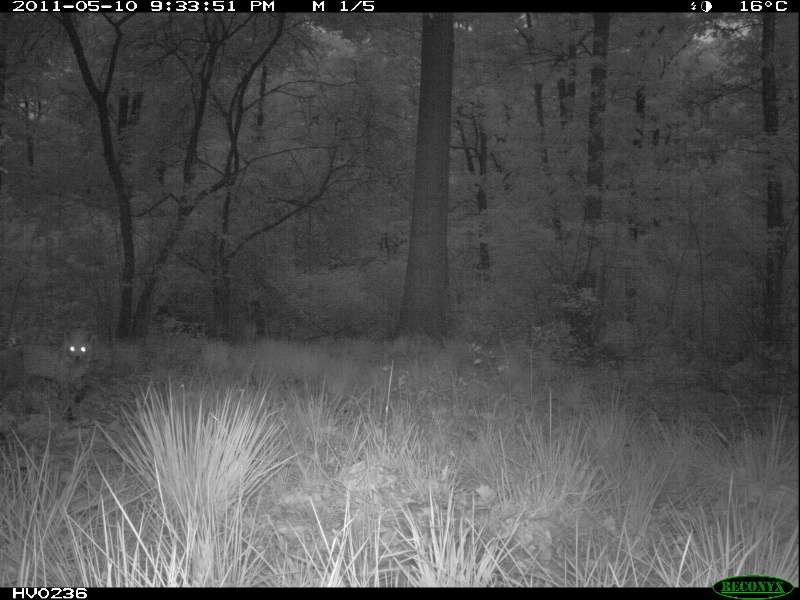fox: (12, 333, 96, 402)
